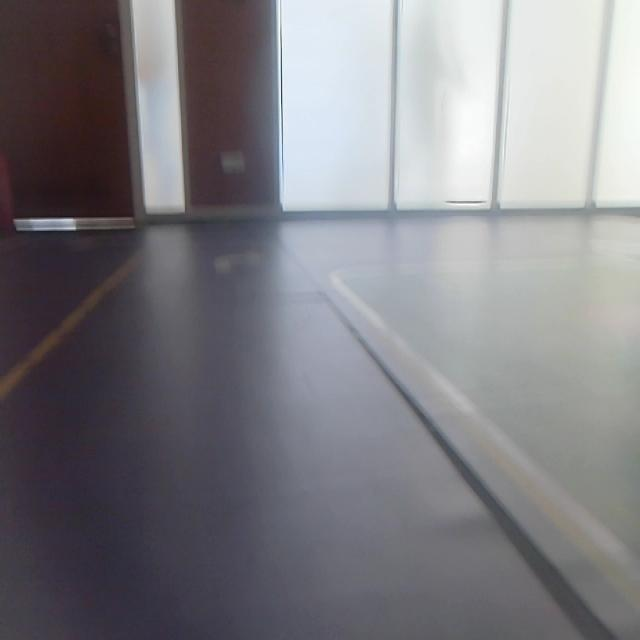left_lane: (0, 247, 151, 400)
right_lane: (334, 279, 640, 612)
